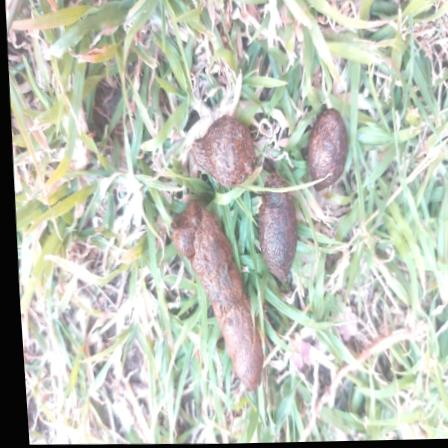dog-poop: (193, 112, 354, 280), (156, 205, 270, 395)
